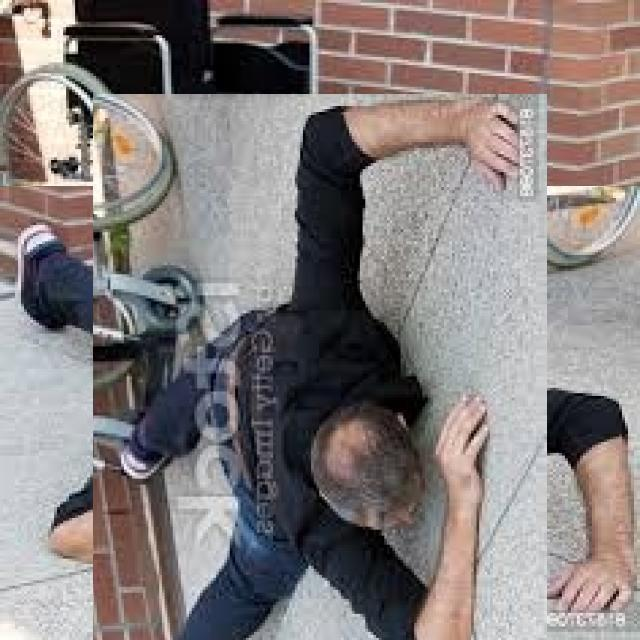Fall: (96, 94, 547, 640)
